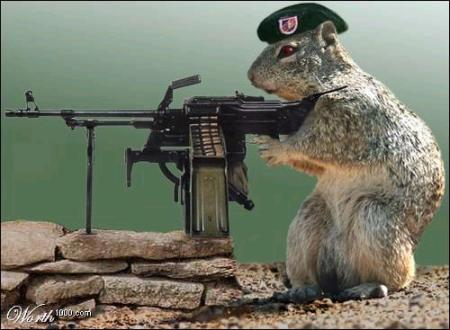rifle: (15, 81, 295, 217)
